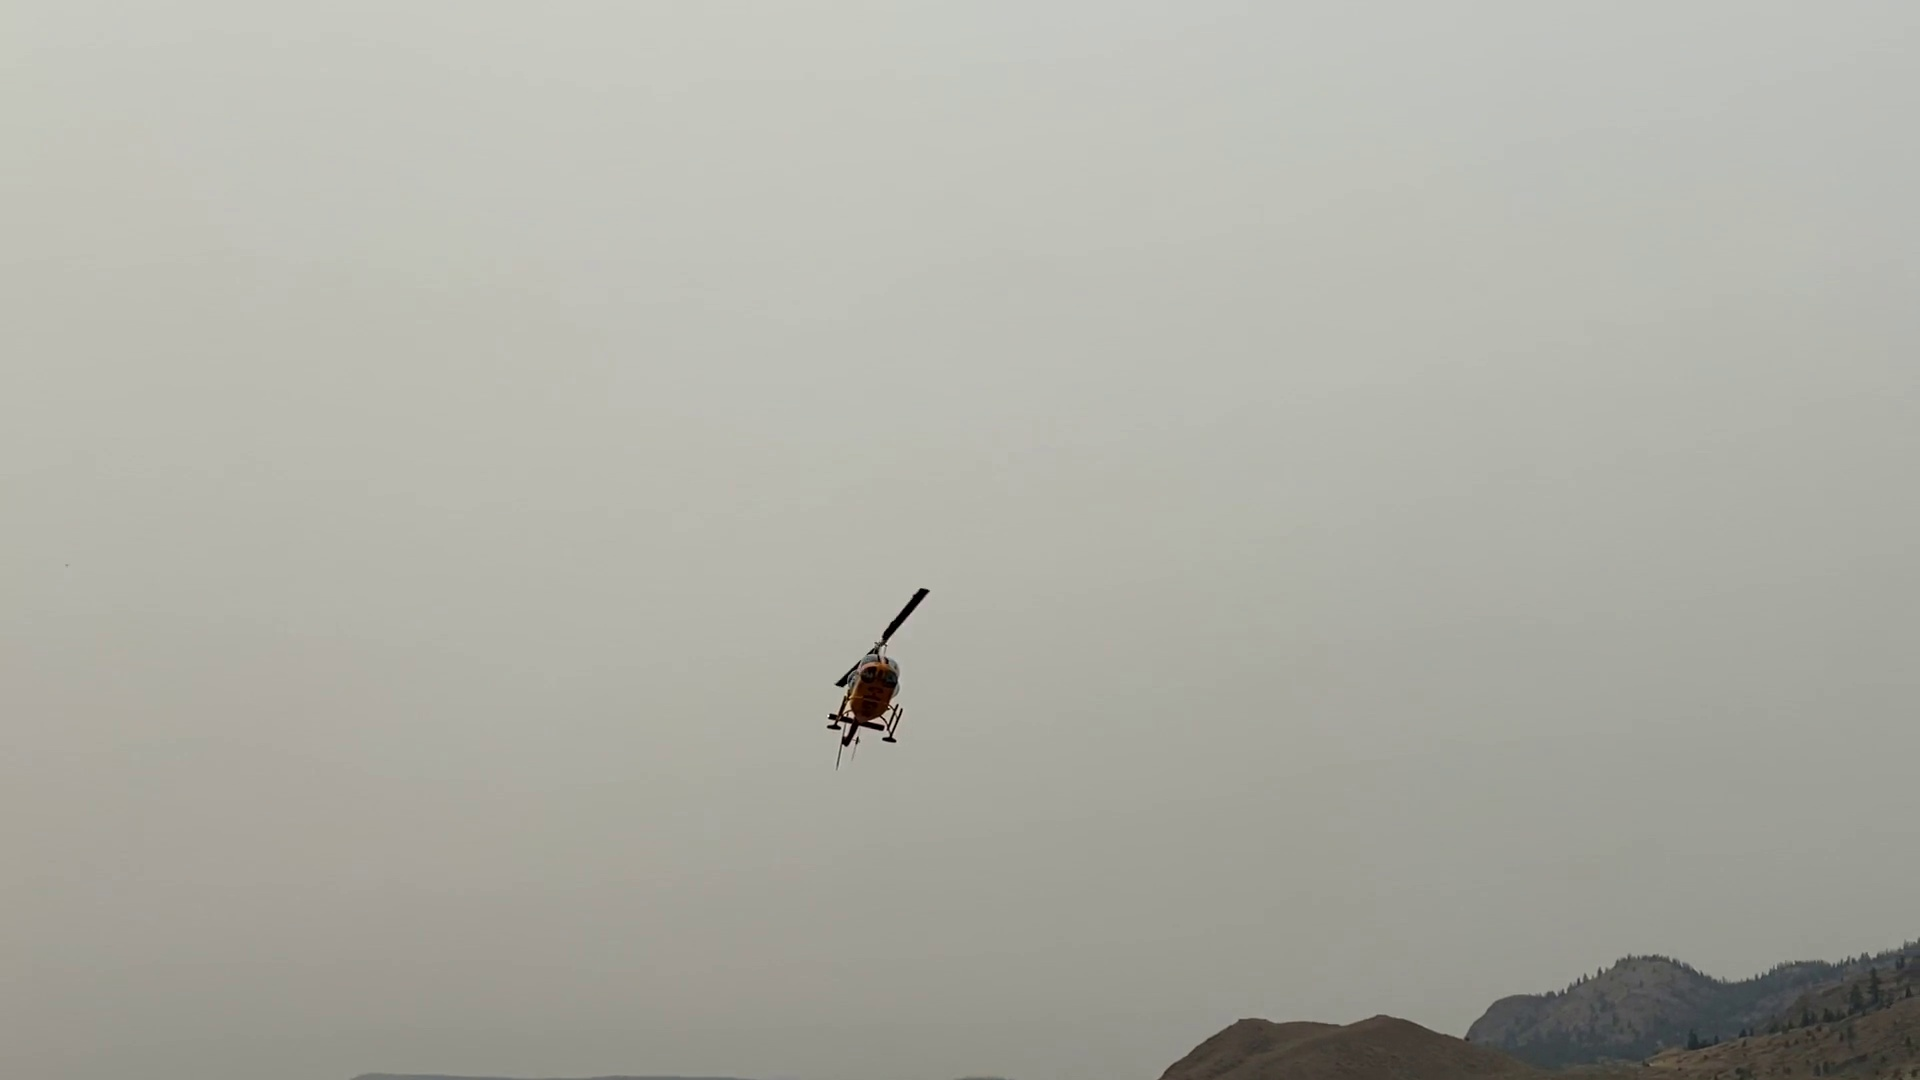heli: (828, 584, 934, 744)
